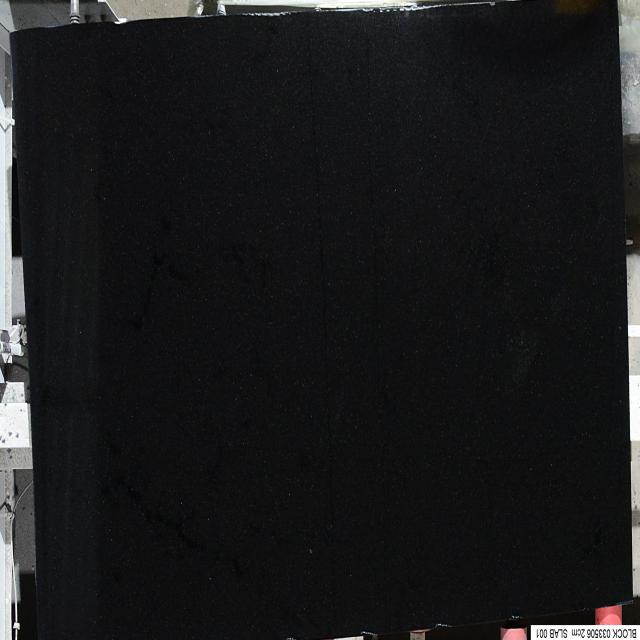chapa: (11, 2, 632, 638)
